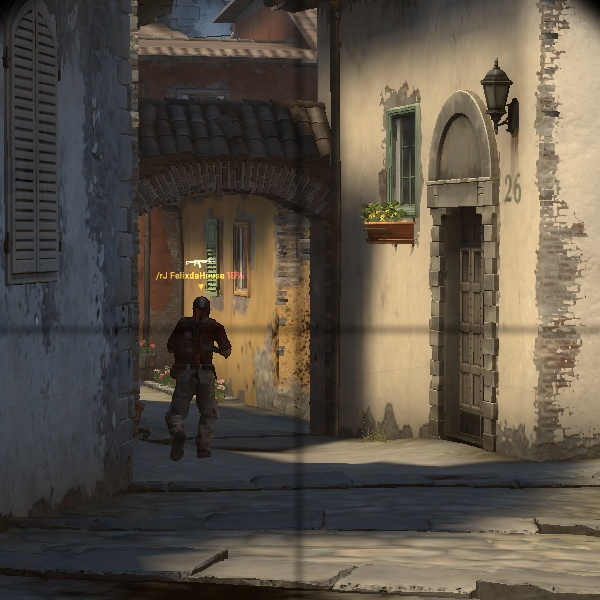t_body: (149, 295, 244, 467)
t_head: (183, 292, 218, 327)
